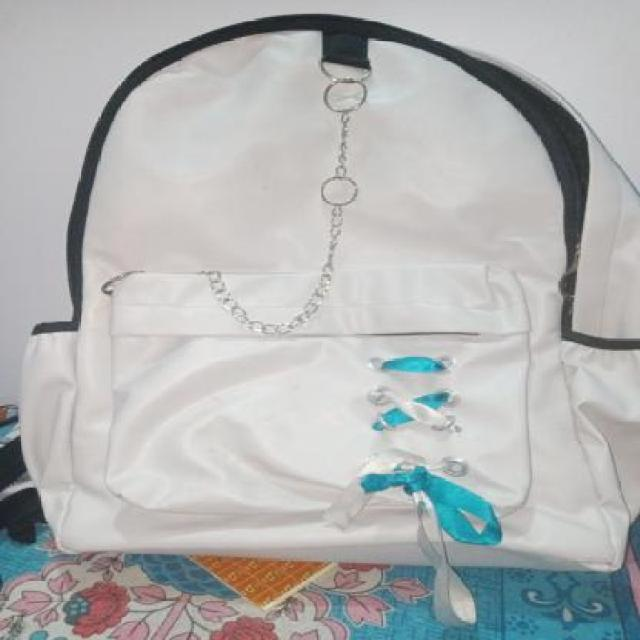backpack: (14, 6, 640, 577)
